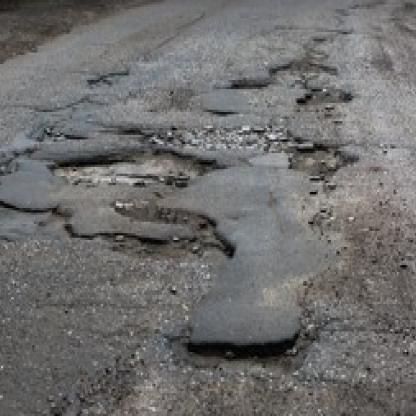pothole: (46, 151, 223, 190), (285, 135, 353, 180), (294, 89, 353, 108)
